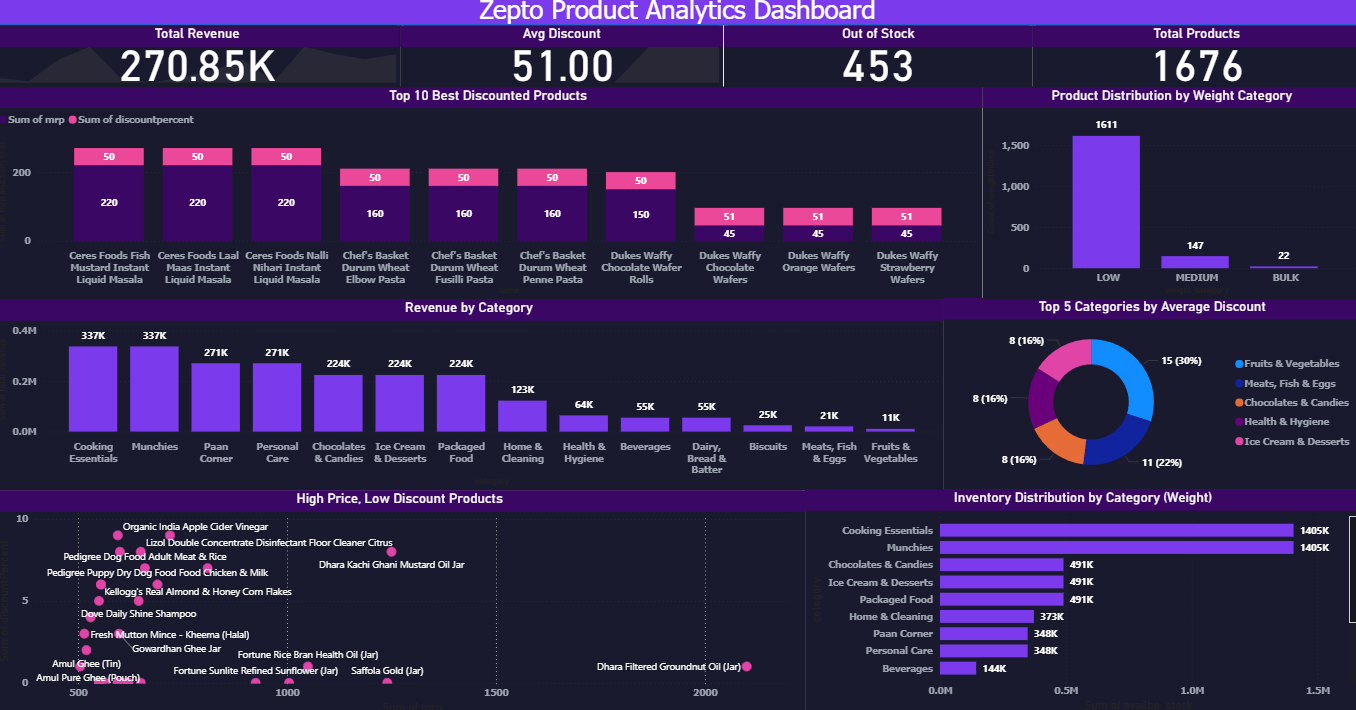

What the dashboard file says about the page in this screenshot:
{"tool":"powerbi","page":{"name":"Page 1","canvas":[1700,900],"ordinal":0},"visuals":[{"type":"columnChart","title":"Top 10 Best Discounted Products","fields":{"Category":["top 10 products.name"],"Y":["Sum(top 10 products.mrp)","Sum(top 10 products.discountpercent)"]},"box":[0,116.4,1229.5,264.7],"z":0},{"type":"columnChart","title":"Revenue by Category","fields":{"Category":["total revenue.cetegory"],"Y":["Sum(total revenue.total_revenue)"]},"box":[0,381.1,1181.7,237.6],"z":1000},{"type":"scatterChart","title":"High Price, Low Discount Products","fields":{"X":["Sum(price more than 500.mrp)"],"Y":["Sum(price more than 500.discountPercent)"],"Category":["price more than 500.name"]},"box":[0,618.8,1009.5,282.3],"z":2000},{"type":"donutChart","title":"Top 5 Categories by Average Discount","fields":{"Category":["top5 categories.cetegory"],"Y":["Sum(top5 categories.avg_discount)"]},"box":[1181.7,379.5,518.3,237.6],"z":3000},{"type":"clusteredBarChart","title":"Inventory Distribution by Category (Weight)","fields":{"Category":["inventory.cetegory"],"Y":["Sum(inventory.availbe_stock)"]},"box":[1009.5,617.2,690.5,282.3],"z":4000},{"type":"columnChart","title":"Product Distribution by Weight Category","fields":{"Category":["weight categor.weight_category"],"Y":["CountNonNull(weight categor.weightInGms)"]},"box":[1229.5,116.4,470.5,264.7],"z":5000},{"type":"shape","title":"Zepto Product Analytics Dashboard","box":[0,0,1700,39.9],"z":6000},{"type":"kpi","title":"Total Revenue","fields":{"TrendLine":["total revenue.cetegory"],"Indicator":["Sum(total revenue.total_revenue)"]},"box":[0,39.9,505.5,76.5],"z":7000},{"type":"kpi","title":"Avg Discount","fields":{"Indicator":["Avg(top 10 products.discountpercent)"],"TrendLine":["top 10 products.name"]},"box":[505.5,39.9,401.9,76.5],"z":8000},{"type":"kpi","title":"Out of Stock","fields":{"Indicator":["Sum(out of stock count.count(outofstock))"],"TrendLine":["Out of stock.name"]},"box":[907.4,39.9,384.3,76.5],"z":9000},{"type":"kpi","title":"Total Products","fields":{"Indicator":["Sum(product_count.product_count)"],"TrendLine":["product_count_by name.name"]},"box":[1291.7,39.9,408.3,76.5],"z":10000}]}

Visuals, with their boxes in screenshot pixels (x1, y1, x2, y2), scaled from the page's 1700x900 canvas onto the 1356x710 screenshot:
"Top 10 Best Discounted Products" columnChart: box=[0, 92, 981, 301]
"Revenue by Category" columnChart: box=[0, 301, 943, 488]
"High Price, Low Discount Products" scatterChart: box=[0, 488, 805, 709]
"Top 5 Categories by Average Discount" donutChart: box=[943, 299, 1355, 487]
"Inventory Distribution by Category (Weight)" clusteredBarChart: box=[805, 487, 1355, 709]
"Product Distribution by Weight Category" columnChart: box=[981, 92, 1355, 301]
"Zepto Product Analytics Dashboard" shape: box=[0, 0, 1355, 31]
"Total Revenue" kpi: box=[0, 31, 403, 92]
"Avg Discount" kpi: box=[403, 31, 724, 92]
"Out of Stock" kpi: box=[724, 31, 1030, 92]
"Total Products" kpi: box=[1030, 31, 1355, 92]
